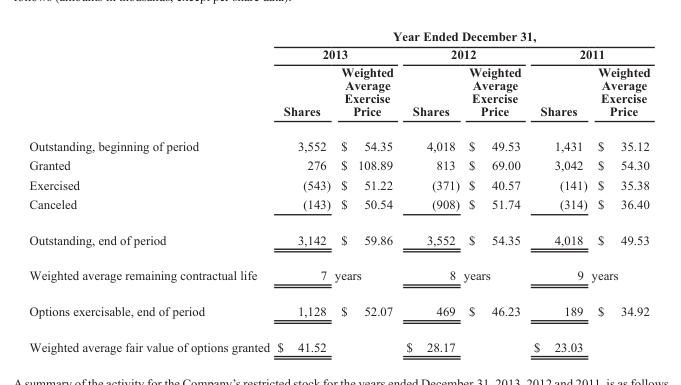table: (28, 29, 649, 353)
table column: (28, 29, 272, 353), (331, 29, 399, 353), (460, 29, 526, 353), (526, 29, 588, 353), (399, 29, 460, 353), (588, 29, 649, 353), (272, 29, 331, 353)
table column header: (28, 29, 649, 128)
table row: (28, 62, 649, 128), (28, 221, 649, 257), (28, 257, 649, 293), (28, 293, 649, 328), (28, 193, 649, 221), (28, 128, 649, 155), (28, 328, 649, 353), (28, 155, 649, 174), (28, 174, 649, 193), (28, 45, 649, 62), (28, 29, 649, 45)
table spanning cell: (272, 29, 649, 45), (272, 45, 399, 62), (399, 45, 526, 62), (526, 45, 649, 62)
